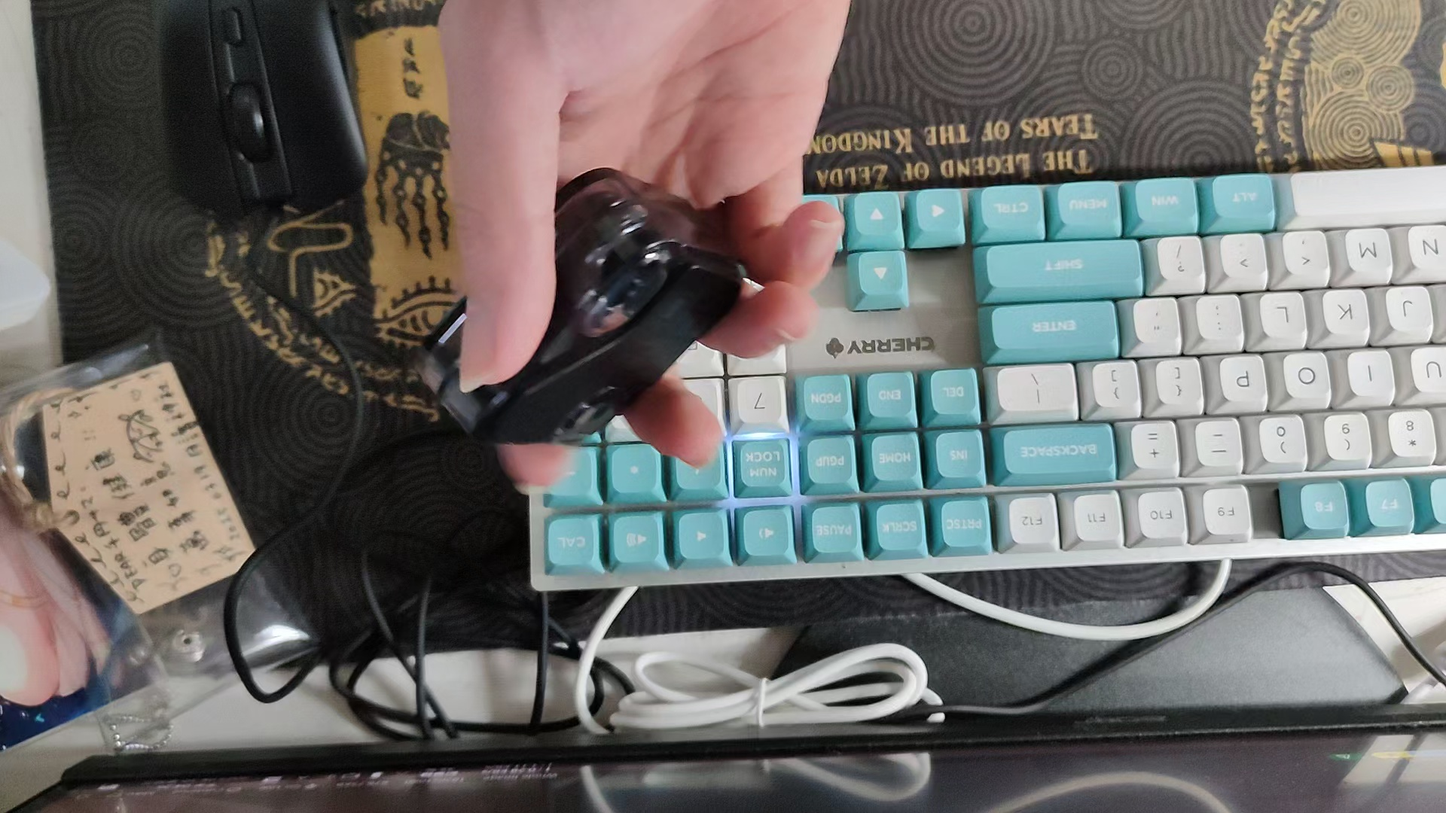Wireless_earphone: (411, 164, 748, 447)
